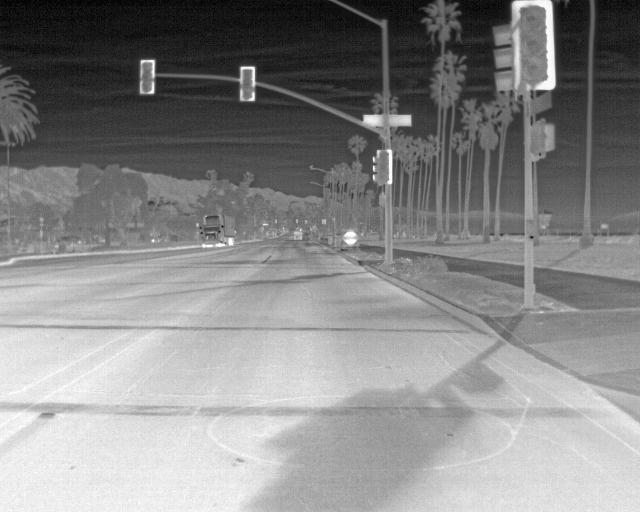car: (291, 227, 305, 241)
